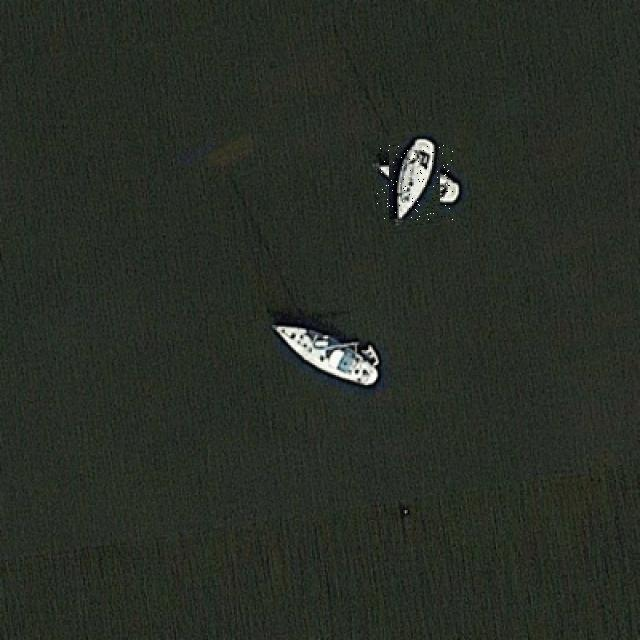boat: (267, 318, 381, 388), (377, 144, 453, 221)
